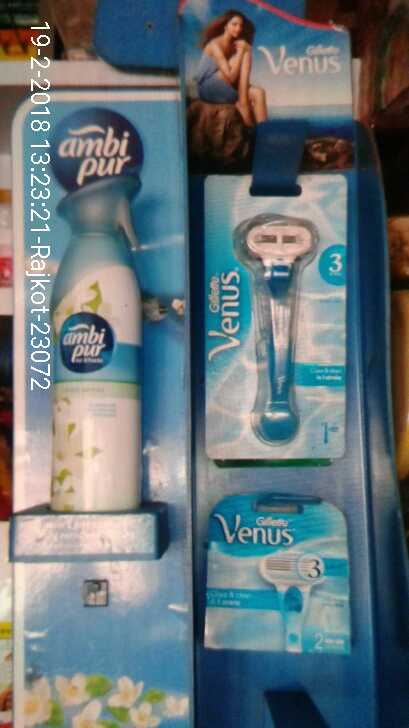beauty: (203, 170, 347, 463), (199, 491, 361, 653)
home: (47, 172, 153, 514)
